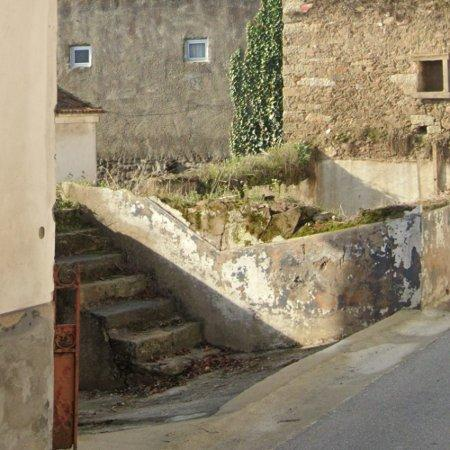stairs: (56, 209, 220, 391)
